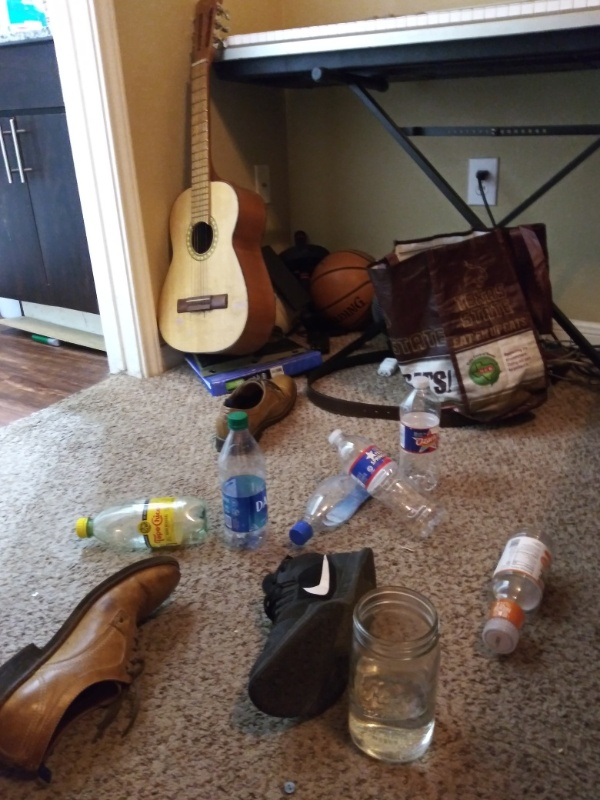bottle: (321, 424, 444, 536), (282, 443, 400, 547), (477, 519, 563, 659), (68, 492, 215, 561), (212, 408, 277, 549), (392, 372, 445, 497)
